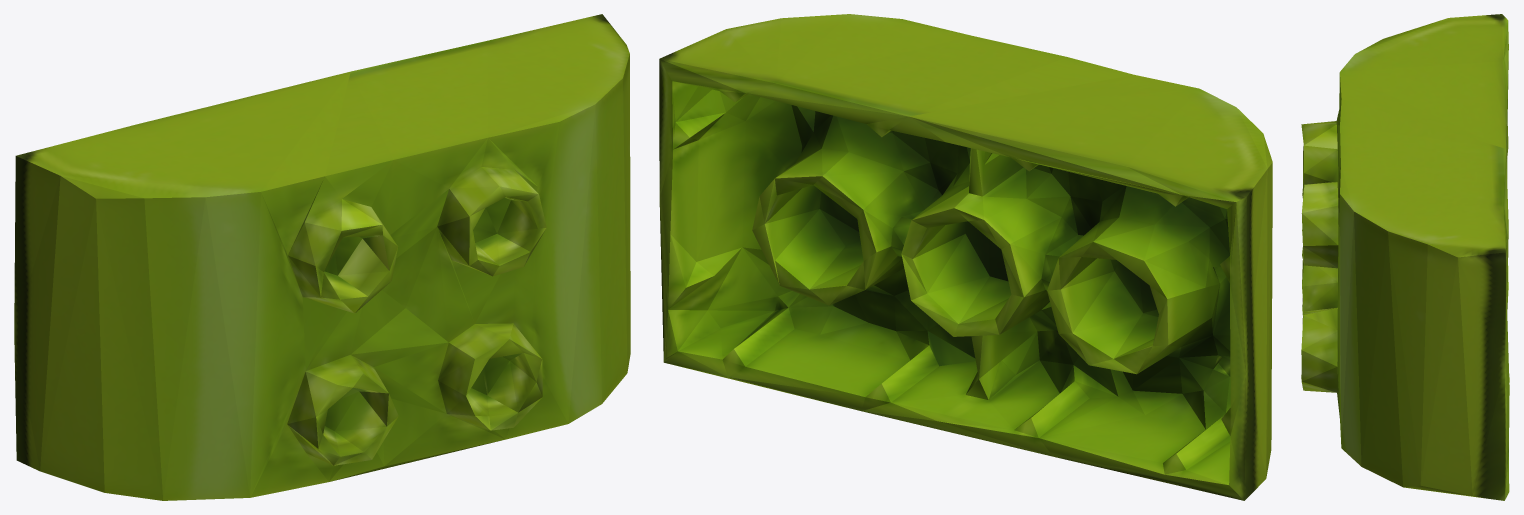
Rendered from 073_a_lego.obj.
3 views of the same model, side by side, from view 1: azimuth 30°, elevation 25°; view 2: azimuth 150°, elevation 25°; view 3: azimuth 270°, elevation 25° (orthographic). The views are drawn at different scales.
Parts seen in each view (by area): view 1: textured; view 2: textured; view 3: textured.
Boxes of the visible parts, x1=… form: textured: x1=14, y1=14, x2=630, y2=500; textured: x1=659, y1=14, x2=1272, y2=500; textured: x1=1301, y1=14, x2=1509, y2=500.
Bounding box in the file's own units: 0.0637 × 0.032 × 0.0238.
Materials: 1 (1 with a texture image).
